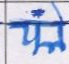o_matra: (53, 5, 68, 51)
